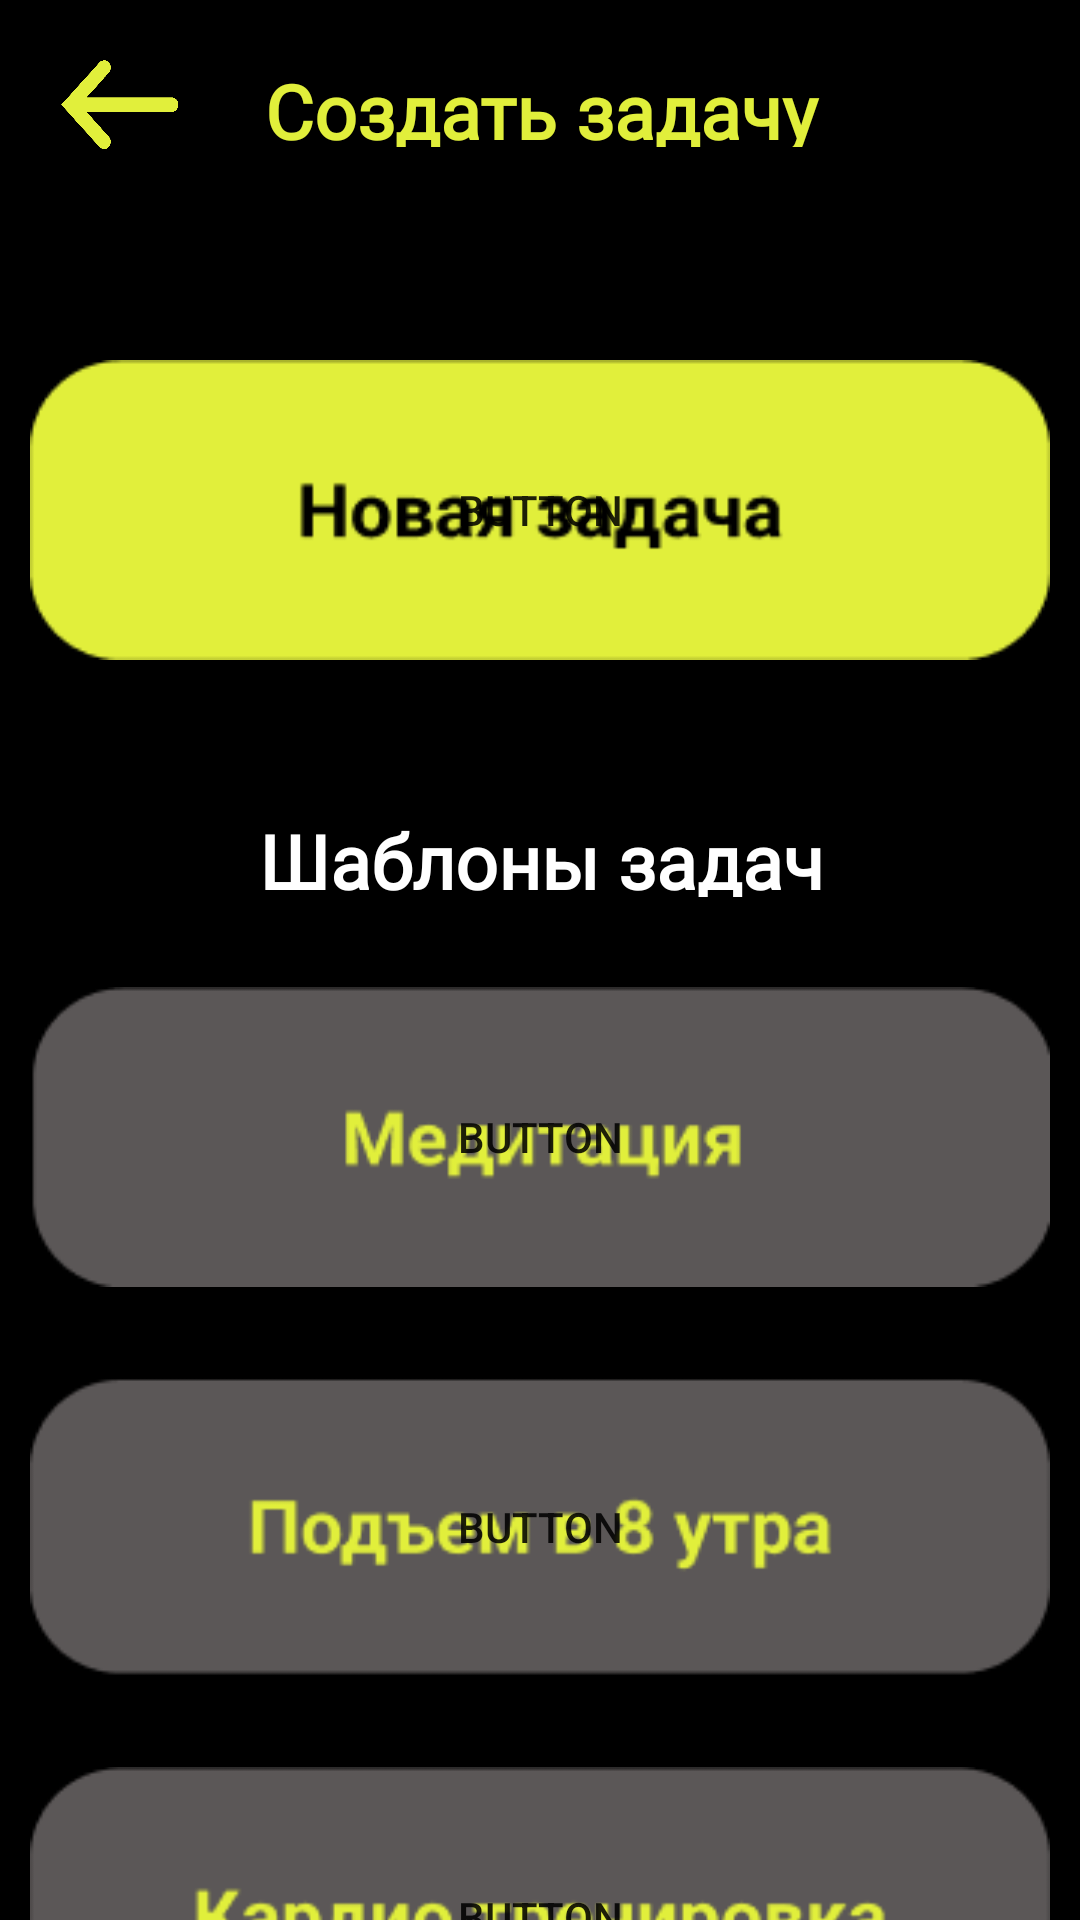

Icons on this 1080w x 1920h Android screen, each with the point to tap as (x=x, y=y):
backgreen: (x=119, y=104)
